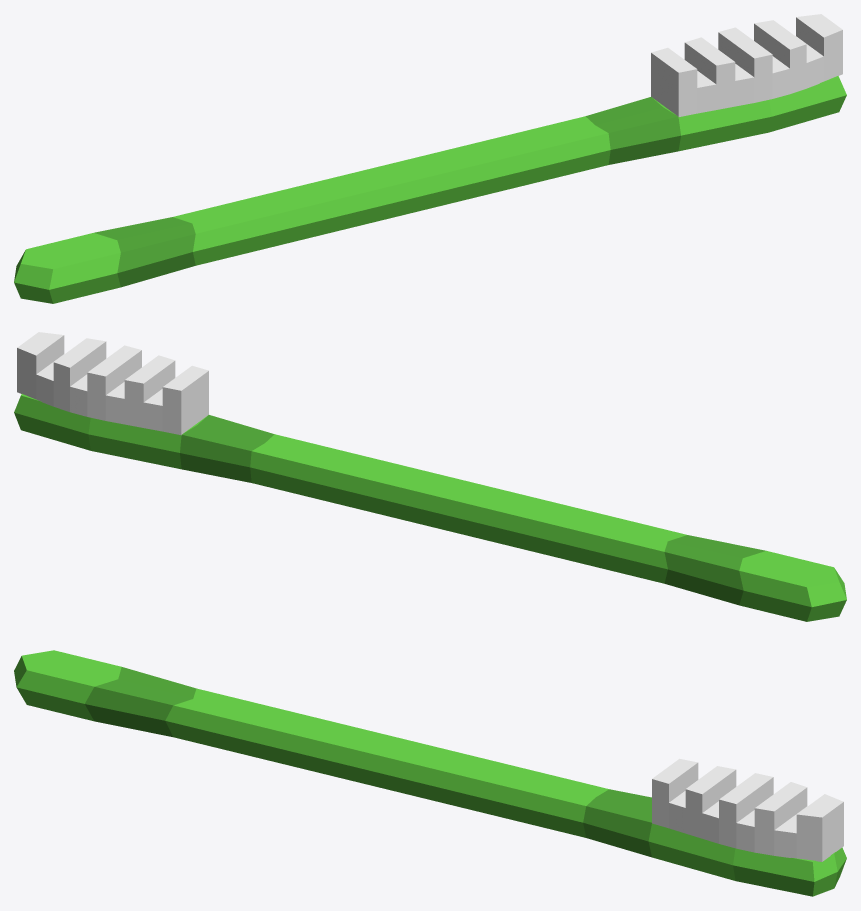
File: Prop_Brush_02.fbx
3 renders of one model, top to bottom at view 1: azimuth 30°, elevation 25°; view 2: azimuth 150°, elevation 25°; view 3: azimuth 330°, elevation 25°, orthographic.
Parts seen in each view (by area): view 1: Prop_Brush_02; view 2: Prop_Brush_02; view 3: Prop_Brush_02.
Part boxes in pixels (left/top/right/bottom): Prop_Brush_02: left=14, top=14, right=846, bottom=303; Prop_Brush_02: left=14, top=332, right=846, bottom=621; Prop_Brush_02: left=14, top=650, right=846, bottom=896.
Bounding box in the file's own units: 28.16 × 2.57 × 2.34.
